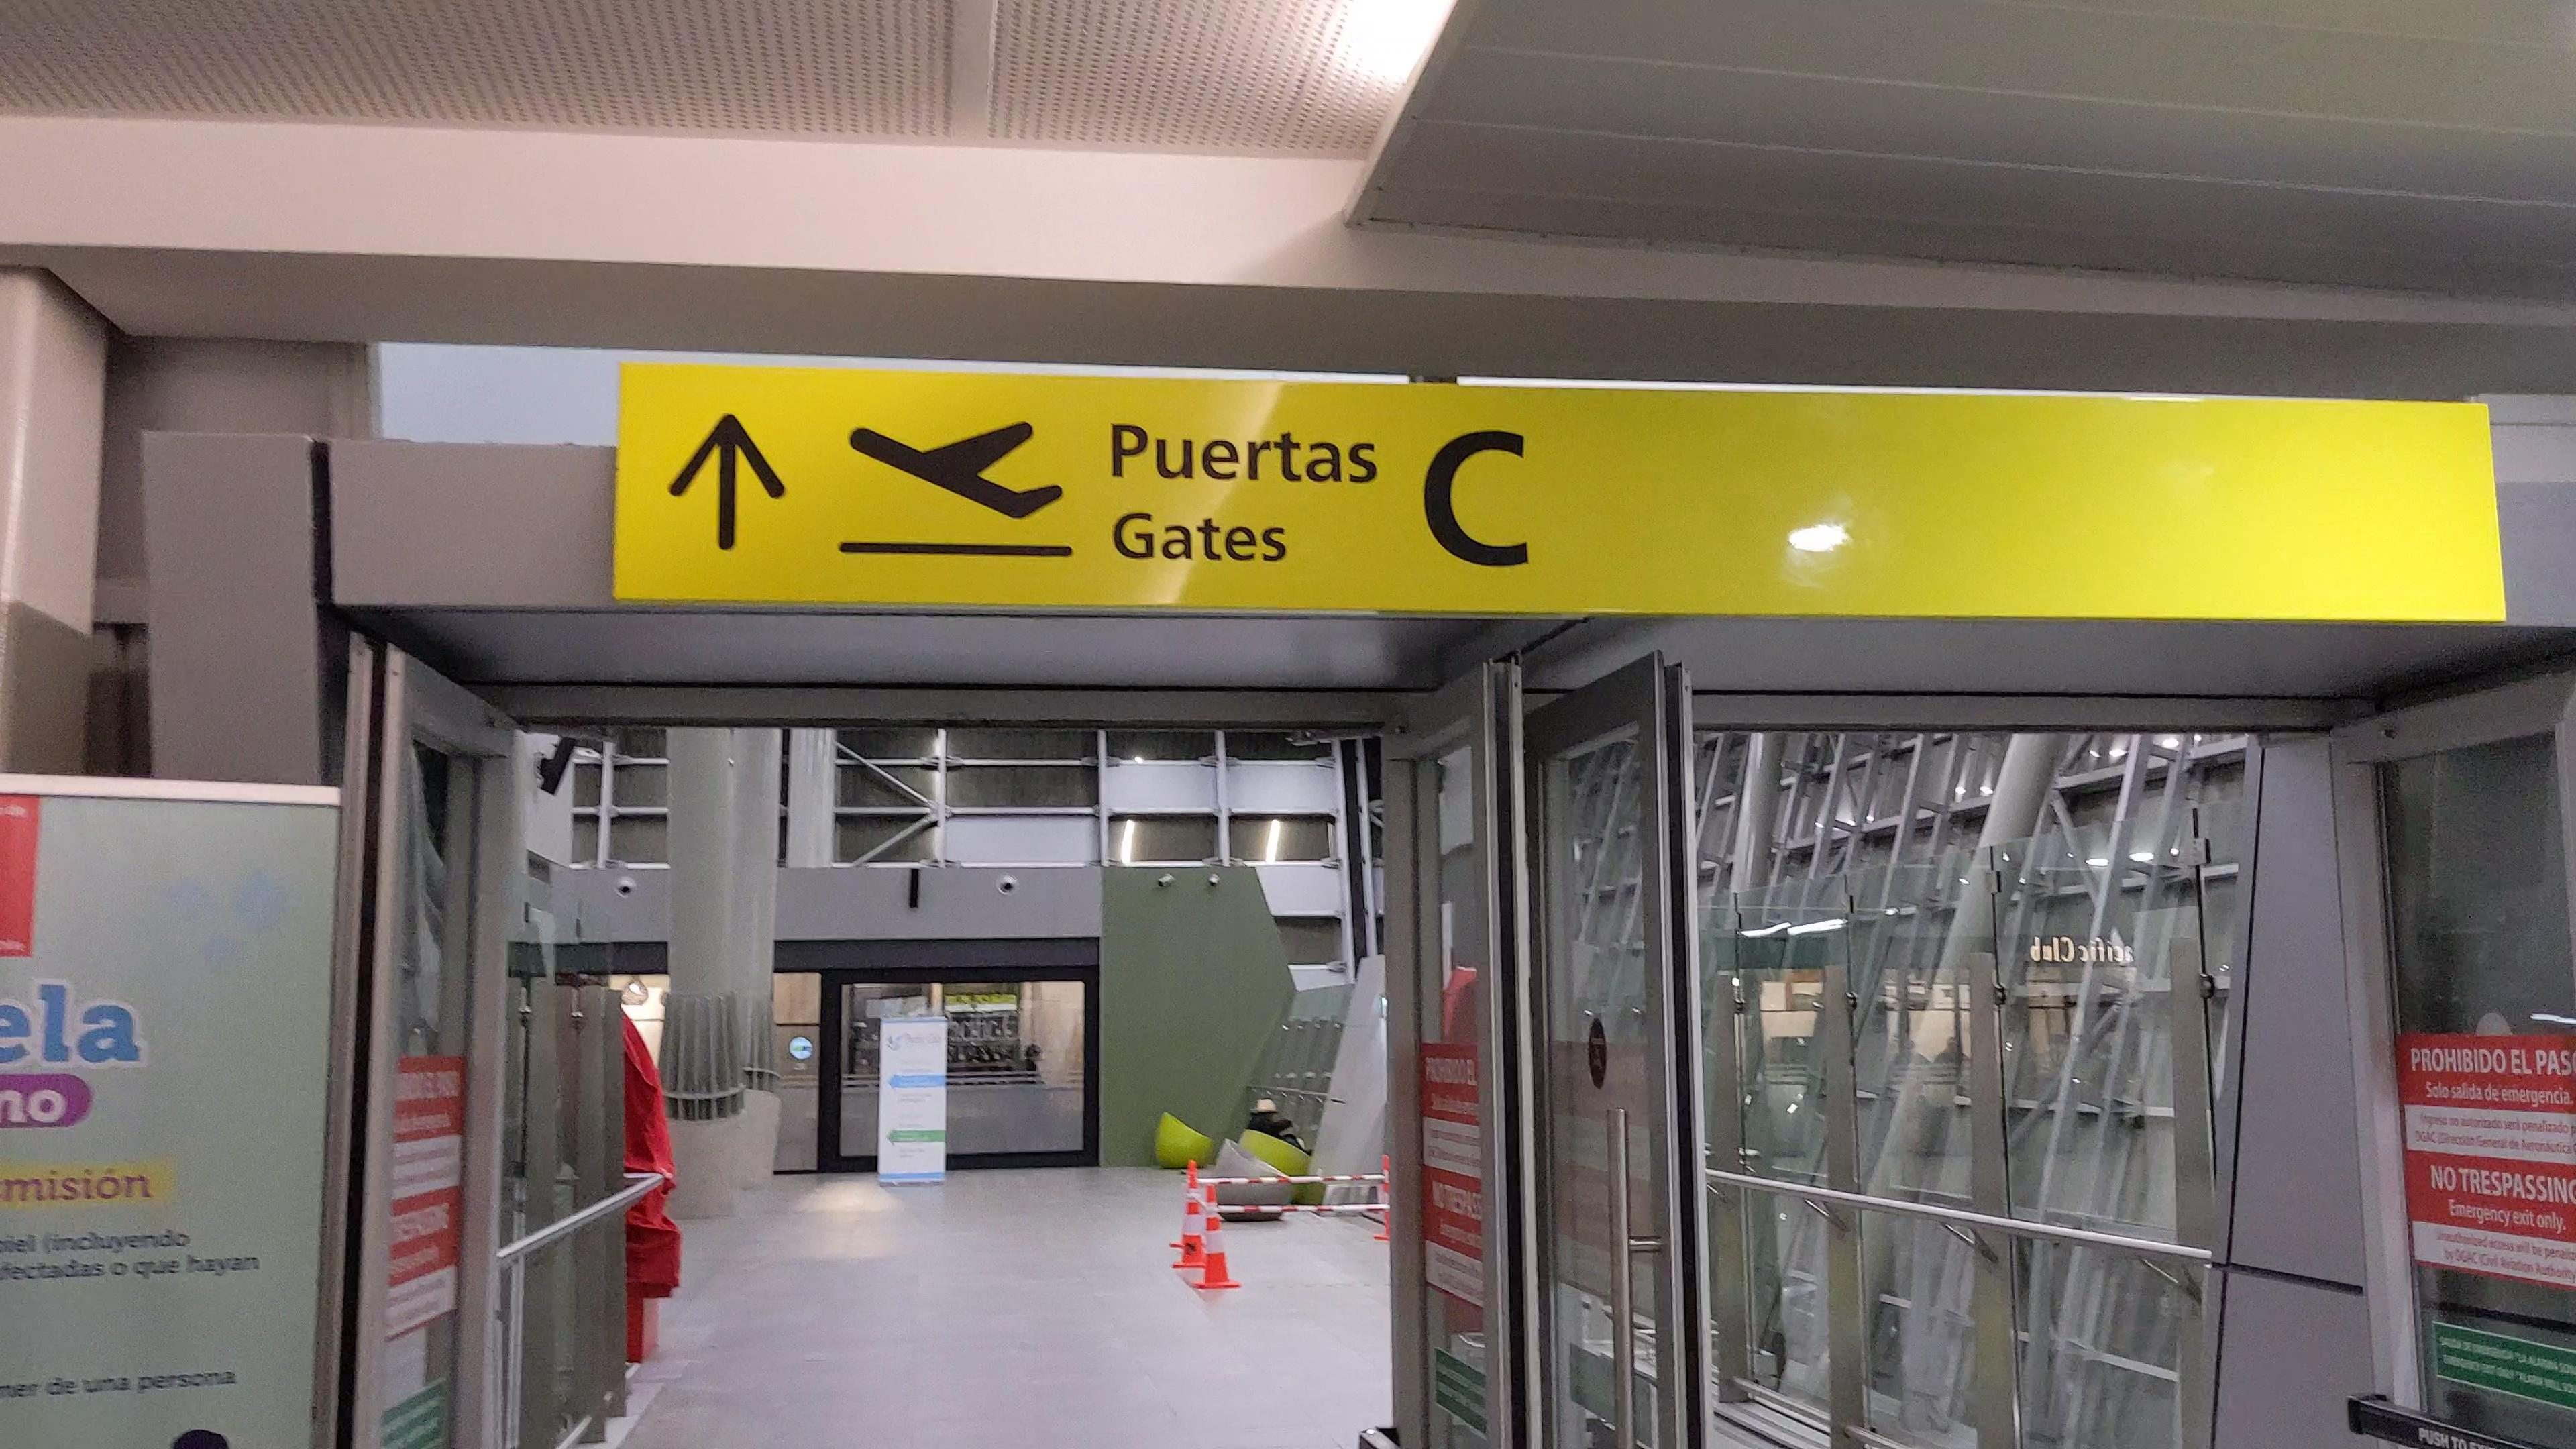airplane symbol: (842, 414, 1072, 525)
no trespassing: (2397, 1037, 2576, 1281), (387, 1058, 462, 1346), (1414, 1044, 1491, 1315)
thin up arrow: (663, 414, 794, 557)
